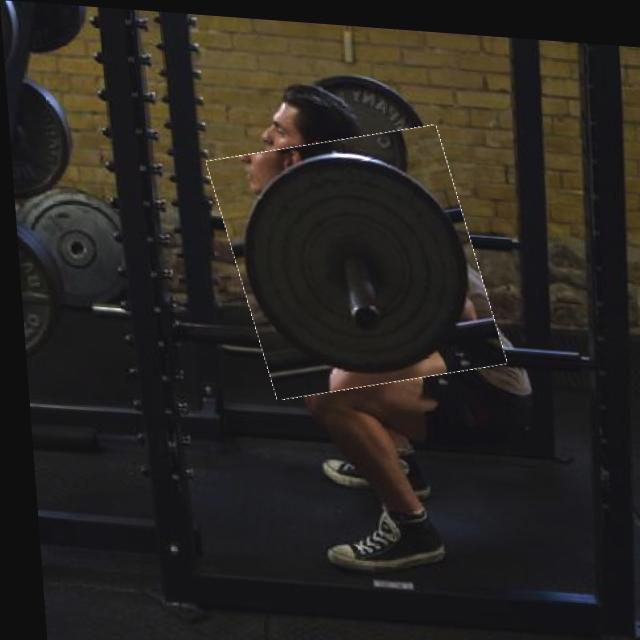barbell: (214, 118, 494, 398)
